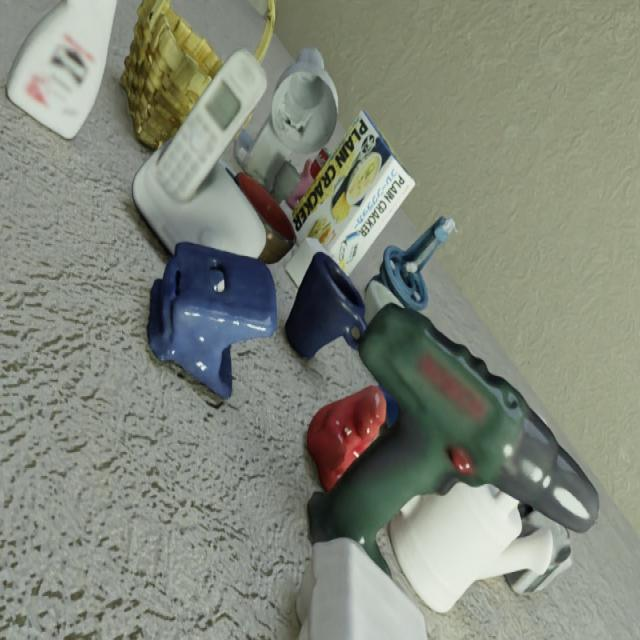Other Objects: (308, 305, 598, 568), (389, 483, 557, 611), (148, 243, 276, 399), (156, 51, 266, 201), (6, 0, 116, 137), (121, 0, 222, 148), (297, 539, 426, 639), (285, 252, 366, 359), (306, 385, 388, 489), (371, 216, 455, 308), (363, 279, 402, 323), (253, 0, 275, 61)
